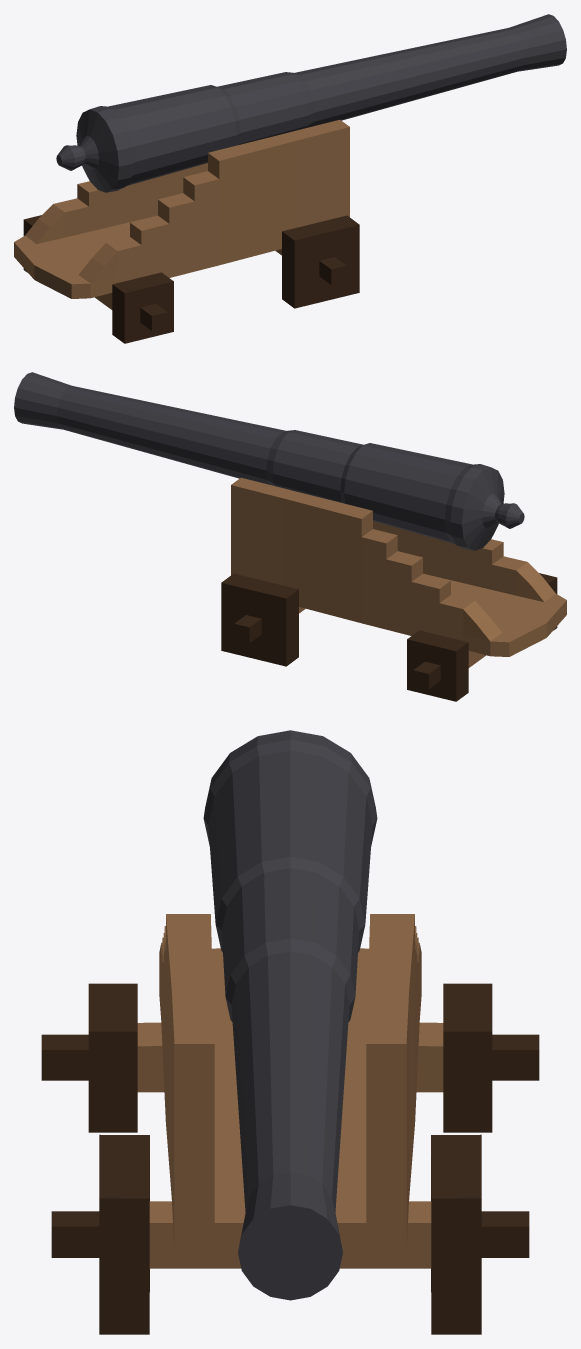
File: canon.glb
The picture shows the model from 3 angles, top to bottom: view 1: azimuth 30°, elevation 25°; view 2: azimuth 150°, elevation 25°; view 3: azimuth 270°, elevation 25°; orthographic projection. The views are drawn at different scales.
Parts seen in each view (by area): view 1: Cart, Cylinder; view 2: Cart, Cylinder; view 3: Cart, Cylinder.
Boxes of the visible parts, box(x1,y1,x2,y2) form: Cart: box(14, 119, 359, 343); Cylinder: box(56, 14, 566, 192); Cart: box(221, 477, 566, 701); Cylinder: box(14, 372, 524, 550); Cart: box(41, 914, 539, 1334); Cylinder: box(203, 730, 377, 1300).
Bounding box in the file's own units: 3.46 × 1.26 × 1.44.
